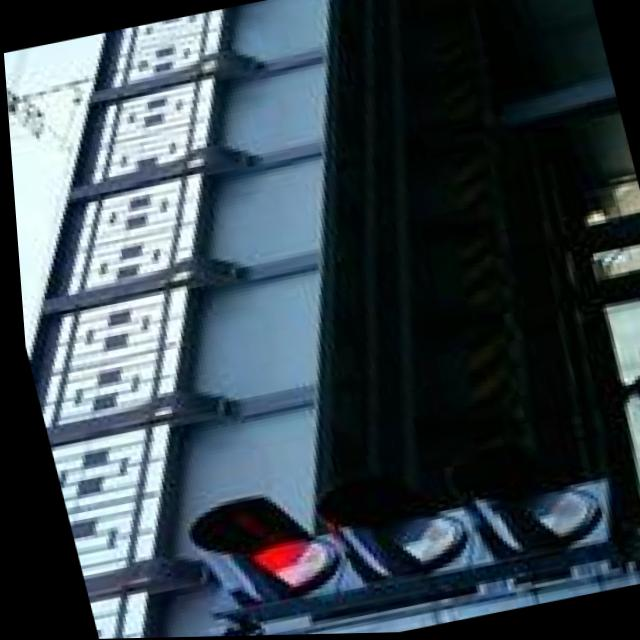red_light: (177, 478, 357, 637)
